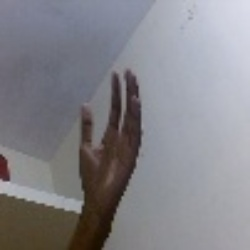hand: (77, 75, 143, 205)
